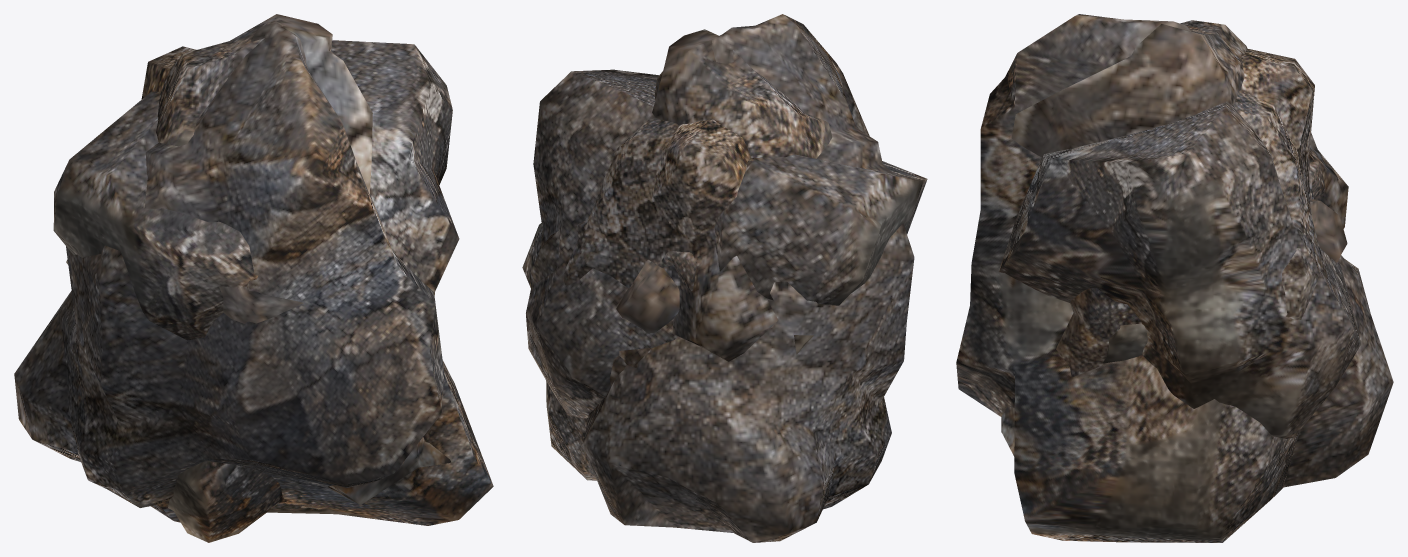
File: Stone.fbx
3 views of the same model, side by side, from view 1: azimuth 30°, elevation 25°; view 2: azimuth 150°, elevation 25°; view 3: azimuth 270°, elevation 25° (orthographic). The views are drawn at different scales.
Visible parts, largest first — view 1: Rock01, Rock02, Rock03, Rock04; view 2: Rock01, Rock02, Rock04, Rock03, Stone01, Stone02; view 3: Rock01, Rock02, Rock03, Rock04, Stone01.
Boxes of the visible parts, x1=… form: Rock01: x1=14, y1=21, x2=493, y2=525; Rock02: x1=53, y1=40, x2=459, y2=340; Rock03: x1=156, y1=14, x2=372, y2=542; Rock04: x1=66, y1=46, x2=450, y2=504; Rock01: x1=546, y1=14, x2=914, y2=542; Rock02: x1=522, y1=69, x2=927, y2=418; Rock04: x1=530, y1=118, x2=813, y2=399; Rock03: x1=619, y1=29, x2=832, y2=367; Stone01: x1=616, y1=259, x2=679, y2=333; Stone02: x1=658, y1=251, x2=702, y2=291; Rock01: x1=956, y1=14, x2=1393, y2=542; Rock02: x1=998, y1=101, x2=1360, y2=438; Rock03: x1=1011, y1=20, x2=1247, y2=363; Rock04: x1=1001, y1=49, x2=1348, y2=456; Stone01: x1=1310, y1=199, x2=1347, y2=262.
Size of the model in its own units: 269 by 334 by 280.
